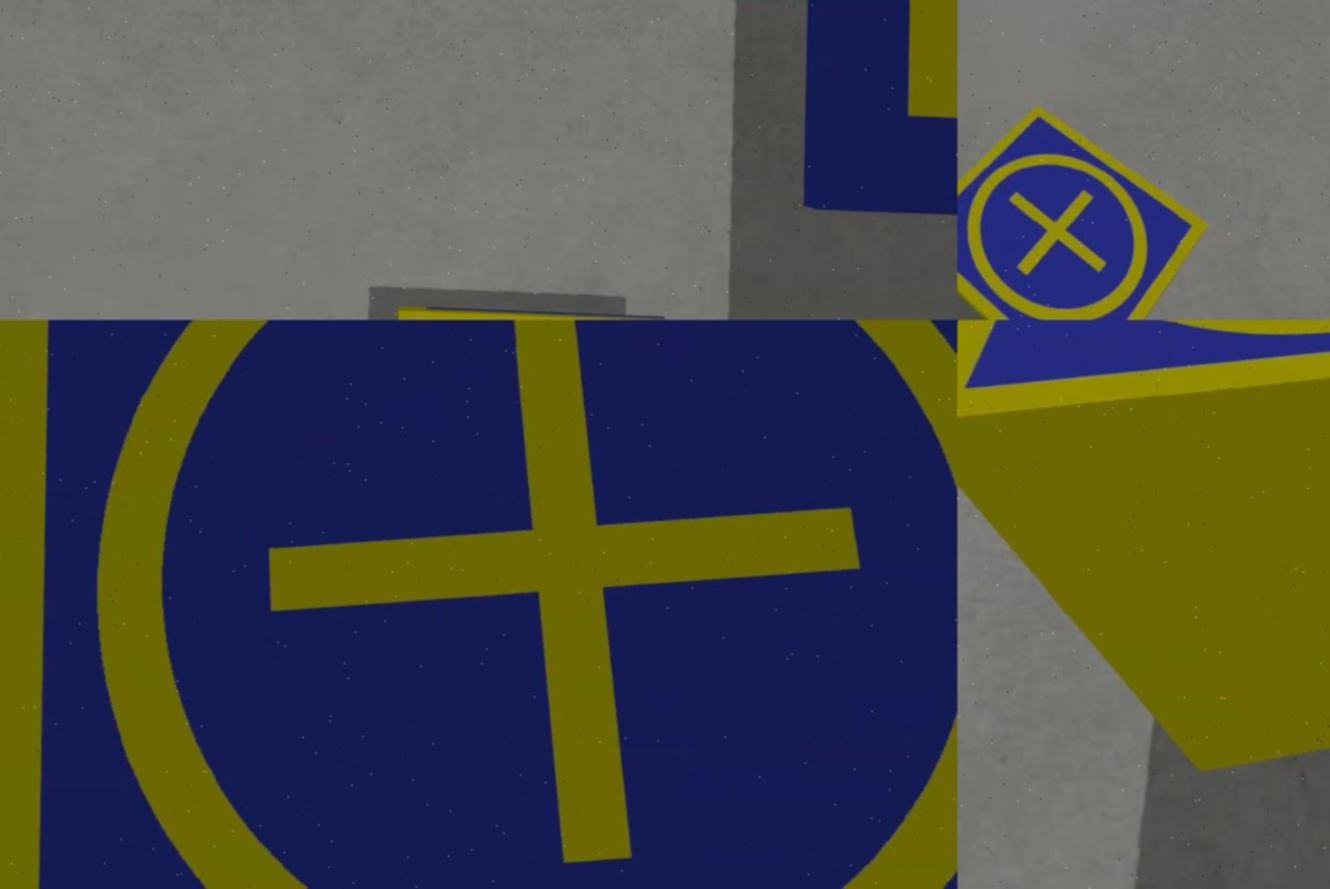large_base: (1, 321, 958, 889), (795, 1, 958, 213)
small_base: (958, 101, 1211, 321), (958, 321, 1330, 454)
